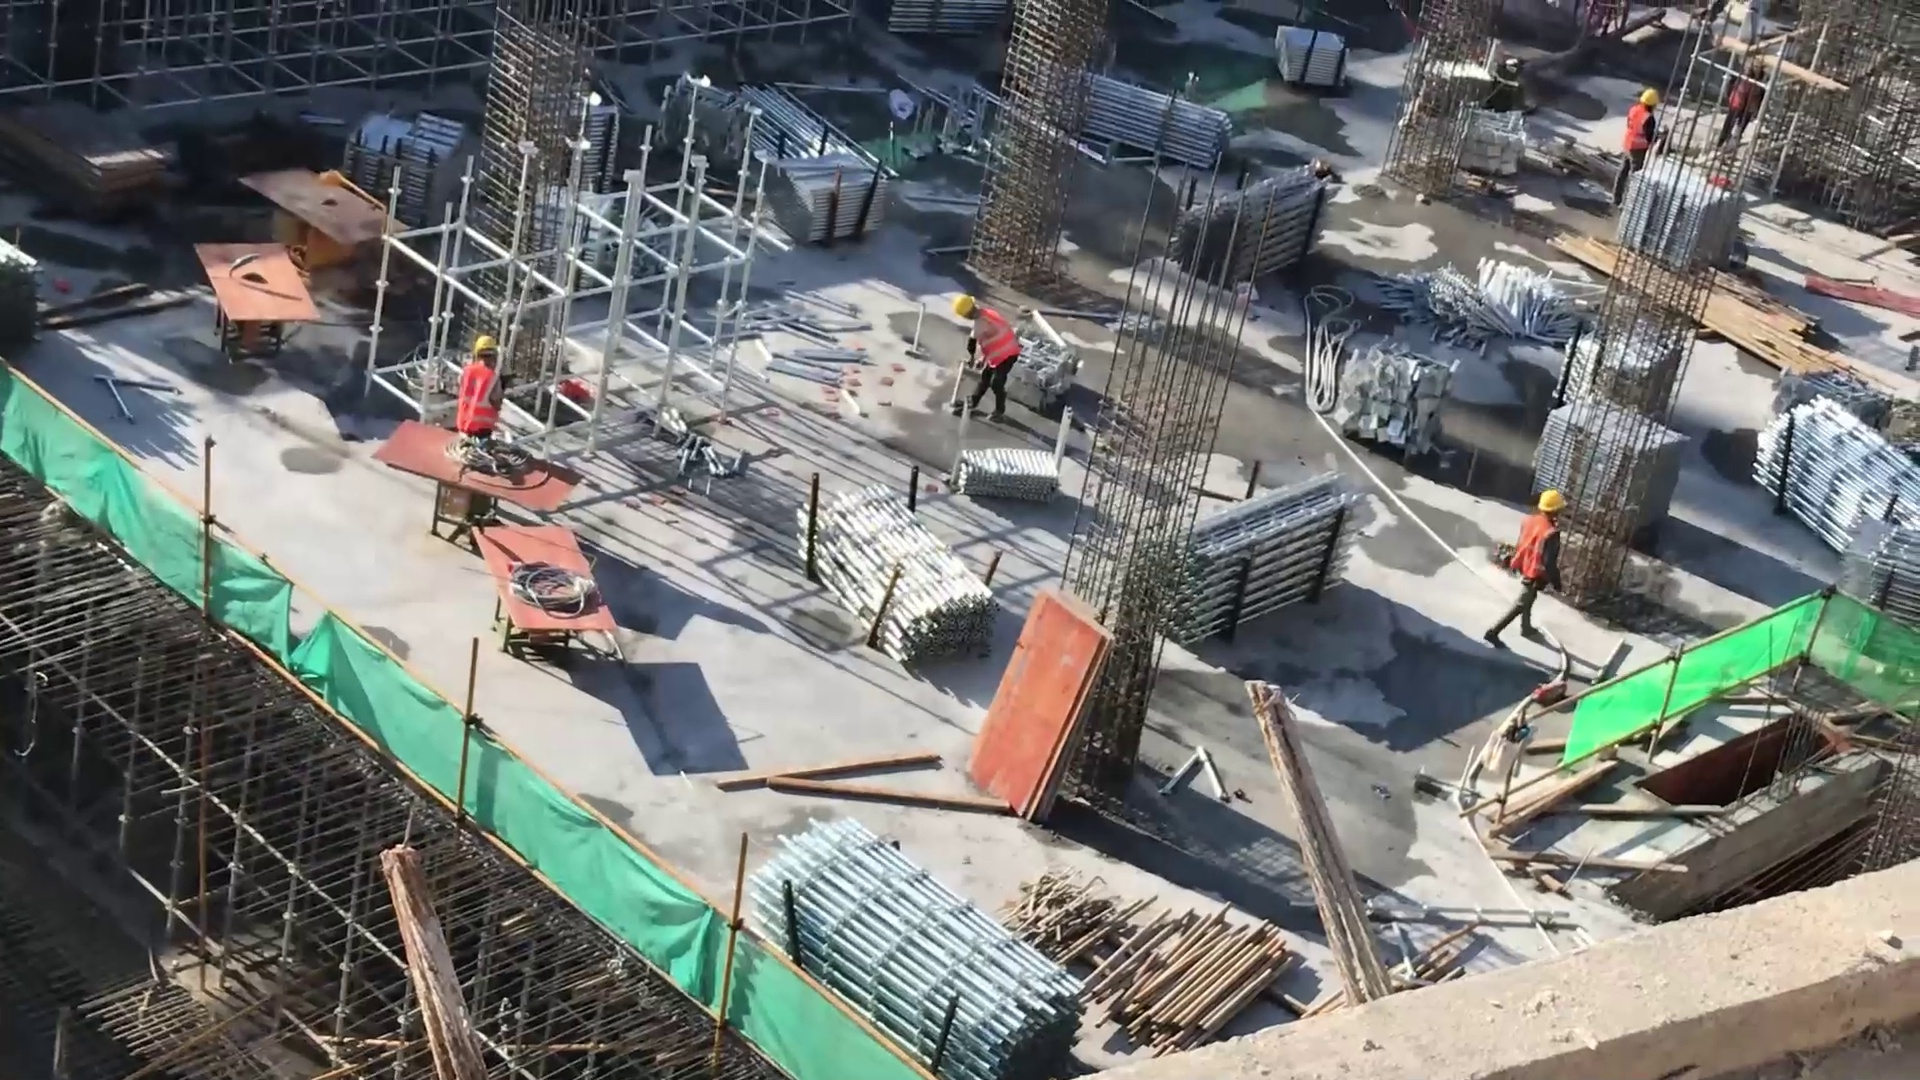board: (964, 576, 1127, 835), (13, 89, 162, 208)
cutter: (356, 388, 575, 559), (468, 505, 641, 713), (190, 224, 319, 403), (243, 155, 404, 281)
helmet: (1528, 480, 1577, 518), (954, 294, 985, 324), (473, 332, 500, 362), (1636, 85, 1662, 116)
person: (1476, 483, 1578, 661), (951, 285, 1025, 437), (445, 327, 511, 450), (1621, 85, 1660, 220)
scaffold: (722, 813, 1093, 1080), (1133, 462, 1354, 660), (803, 486, 992, 679), (1751, 390, 1920, 592), (1524, 397, 1717, 526), (1167, 157, 1330, 307), (1049, 65, 1236, 174), (726, 62, 900, 177), (345, 101, 470, 232), (767, 141, 889, 256), (505, 90, 627, 205), (948, 435, 1073, 512)
vest: (1511, 512, 1561, 597), (457, 358, 498, 447), (973, 311, 1021, 376), (1622, 100, 1658, 165)
